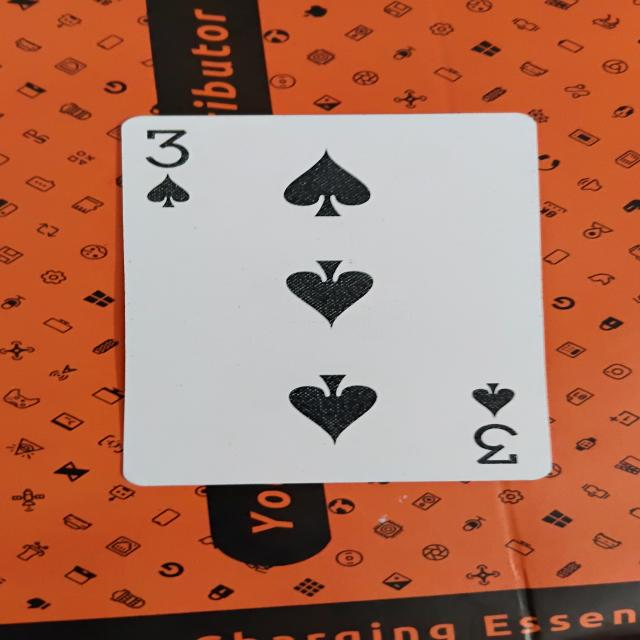3S: (128, 116, 544, 482)
